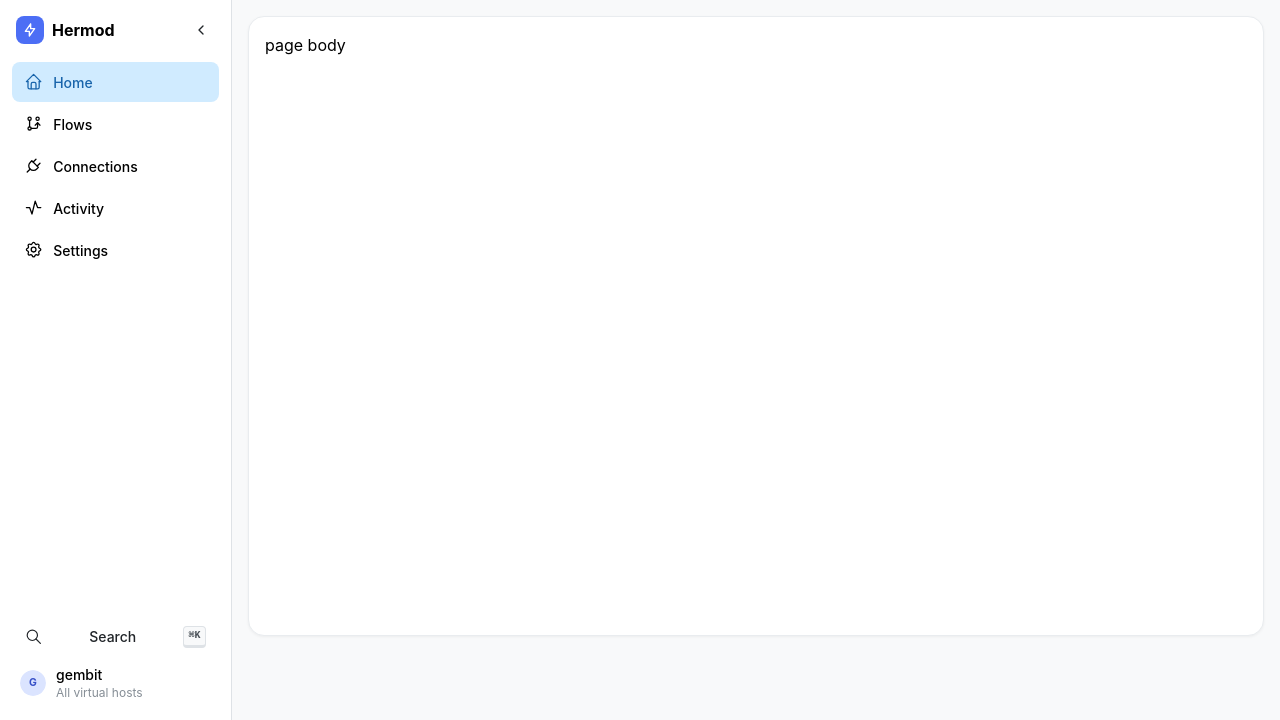
Scenario: the sidebar › keeps the virtual host picker, theme and sign out inside the account menu
This screenshot has width=1280, height=720.
Click the button with aria-label "Account menu".
click(116, 683)  # box [12,659,219,708]
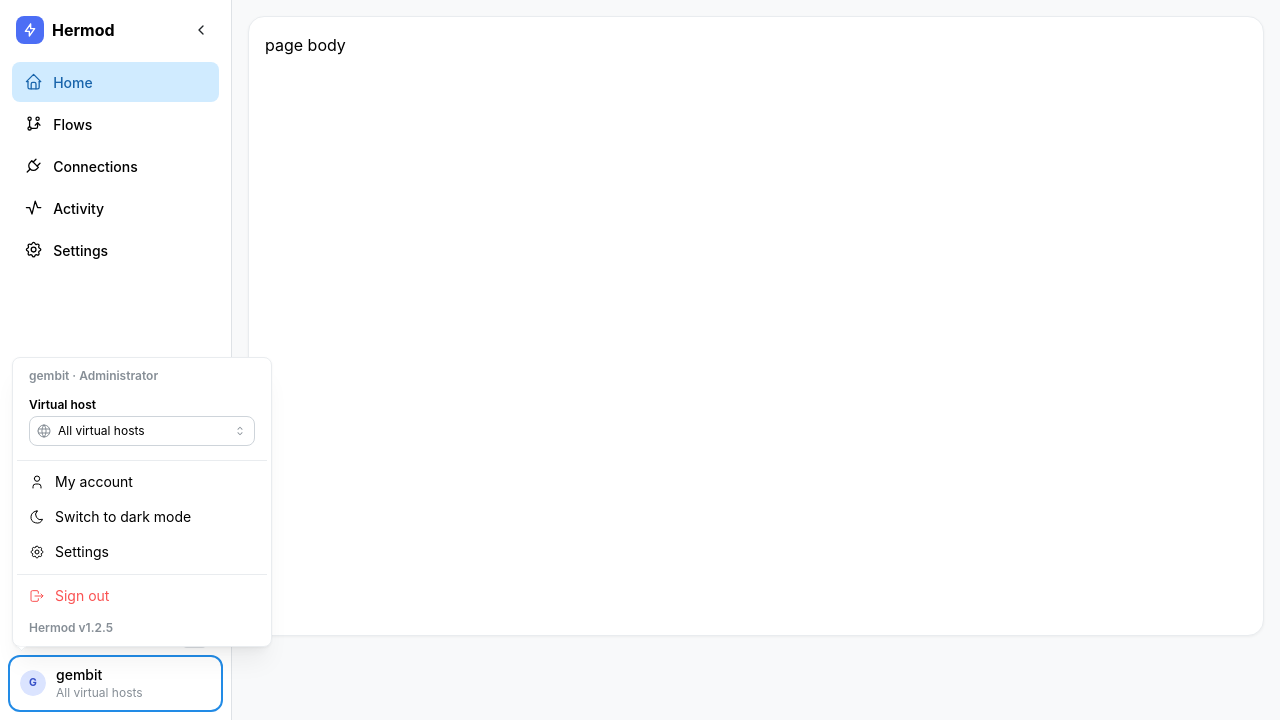
expect the text "gembit · Administrator" is shown: met, box [29,368,158,383]
expect the dropdown labelled "Virtual host" is shown: met, box [29,416,255,446]
expect the menu item "My account" is shown: met, box [17,465,267,500]
